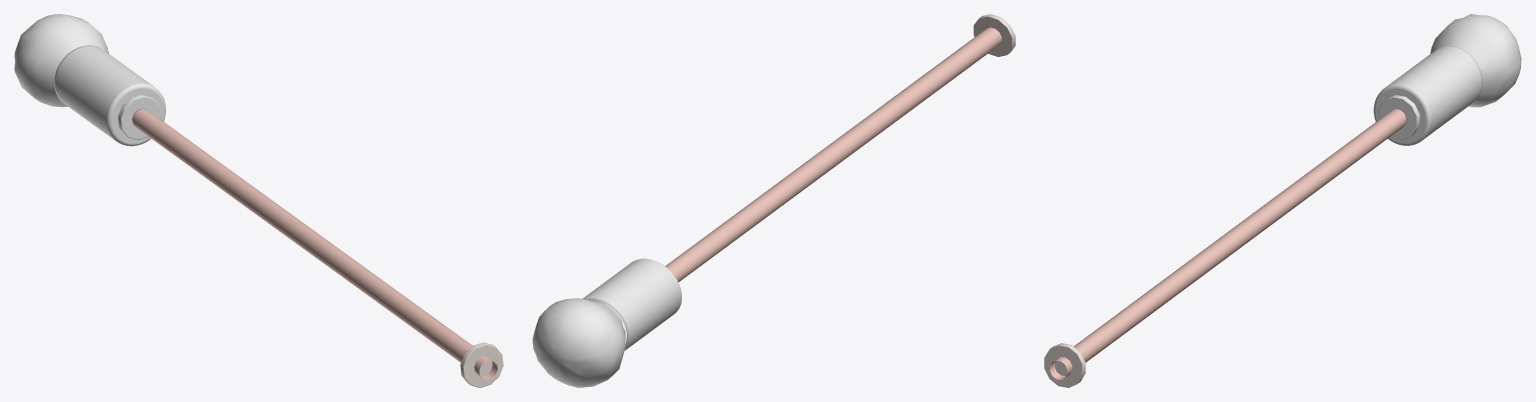
Rendered from branch.02.glb.
3 renders of one model, left to right at view 1: azimuth 30°, elevation 25°; view 2: azimuth 150°, elevation 25°; view 3: azimuth 330°, elevation 25°, orthographic.
Visible parts, largest first — view 1: MET-59_3D-Model.17353, MET-59_3D-Model.17354, MET-59_3D-Model.17355; view 2: MET-59_3D-Model.17353, MET-59_3D-Model.17354, MET-59_3D-Model.17355; view 3: MET-59_3D-Model.17353, MET-59_3D-Model.17354, MET-59_3D-Model.17355.
Part boxes in pixels (box(x1,y1,x2,y2)): MET-59_3D-Model.17353: box(14, 14, 165, 146); MET-59_3D-Model.17354: box(132, 108, 497, 379); MET-59_3D-Model.17355: box(460, 342, 503, 387); MET-59_3D-Model.17353: box(532, 258, 681, 387); MET-59_3D-Model.17354: box(665, 27, 1001, 282); MET-59_3D-Model.17355: box(973, 14, 1015, 56); MET-59_3D-Model.17353: box(1373, 14, 1521, 145); MET-59_3D-Model.17354: box(1050, 109, 1406, 379); MET-59_3D-Model.17355: box(1044, 343, 1085, 387).
Size of the model in its own units: 0.0496 by 0.0475 by 0.4679.
